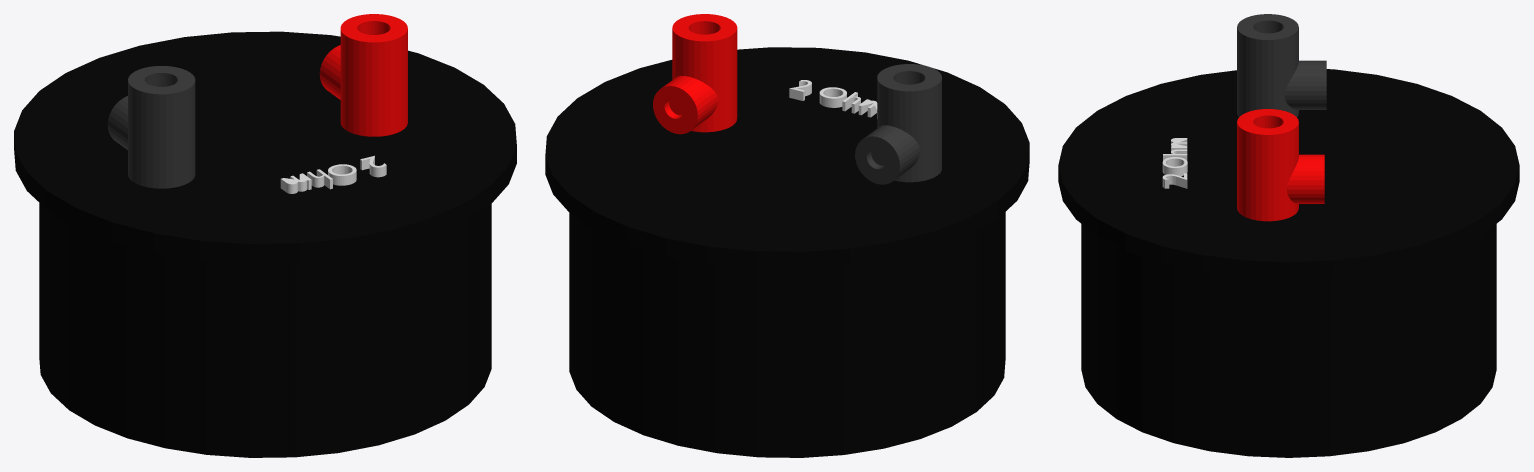
Rendered from resistence.fbx.
The picture shows the model from 3 angles, left to right: view 1: azimuth 30°, elevation 25°; view 2: azimuth 150°, elevation 25°; view 3: azimuth 270°, elevation 25°; orthographic projection. The views are drawn at different scales.
Parts seen in each view (by area): view 1: Cylinder, Cylinder.001, Cylinder.002, Text, Cylinder.003, Cylinder.004; view 2: Cylinder, Cylinder.002, Cylinder.001, Cylinder.004, Cylinder.003, Text; view 3: Cylinder, Cylinder.001, Cylinder.002, Cylinder.004, Cylinder.003, Text.
Boxes of the visible parts, x1=… form: Cylinder: x1=14, y1=31, x2=516, y2=457; Cylinder.001: x1=340, y1=14, x2=407, y2=136; Cylinder.002: x1=128, y1=66, x2=195, y2=188; Text: x1=280, y1=155, x2=386, y2=193; Cylinder.003: x1=319, y1=45, x2=340, y2=99; Cylinder.004: x1=107, y1=96, x2=127, y2=149; Cylinder: x1=545, y1=47, x2=1029, y2=457; Cylinder.002: x1=877, y1=64, x2=941, y2=182; Cylinder.001: x1=672, y1=14, x2=737, y2=132; Cylinder.004: x1=855, y1=125, x2=920, y2=184; Cylinder.003: x1=653, y1=76, x2=718, y2=134; Text: x1=789, y1=80, x2=877, y2=118; Cylinder: x1=1058, y1=69, x2=1519, y2=457; Cylinder.001: x1=1237, y1=109, x2=1298, y2=221; Cylinder.002: x1=1237, y1=14, x2=1298, y2=117; Cylinder.004: x1=1284, y1=60, x2=1326, y2=109; Cylinder.003: x1=1286, y1=154, x2=1324, y2=203; Text: x1=1162, y1=138, x2=1187, y2=188.
Bounding box in the file's own units: 1.87 × 1.3 × 1.87.
